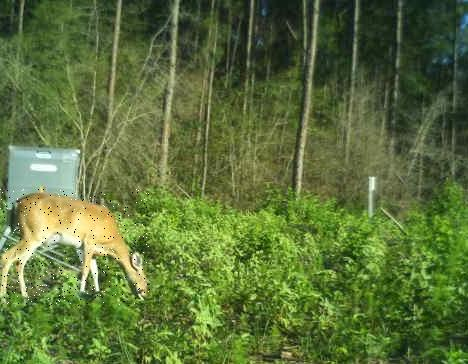Deer: (0, 189, 150, 306)
